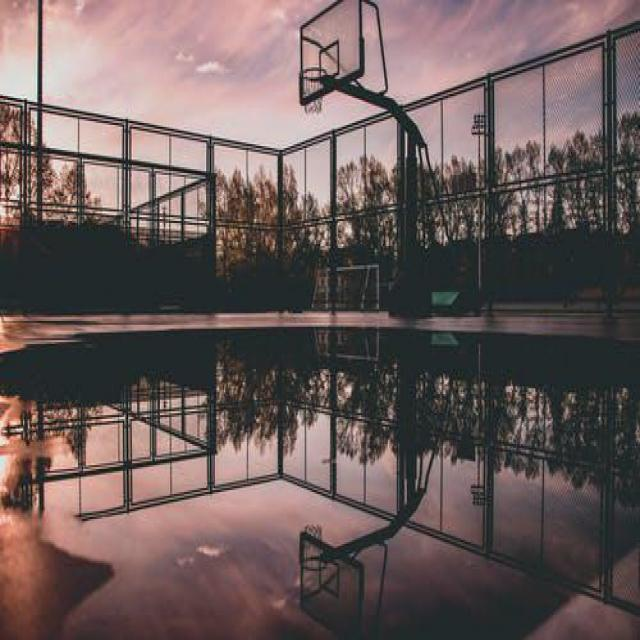hoop: (300, 67, 328, 114)
